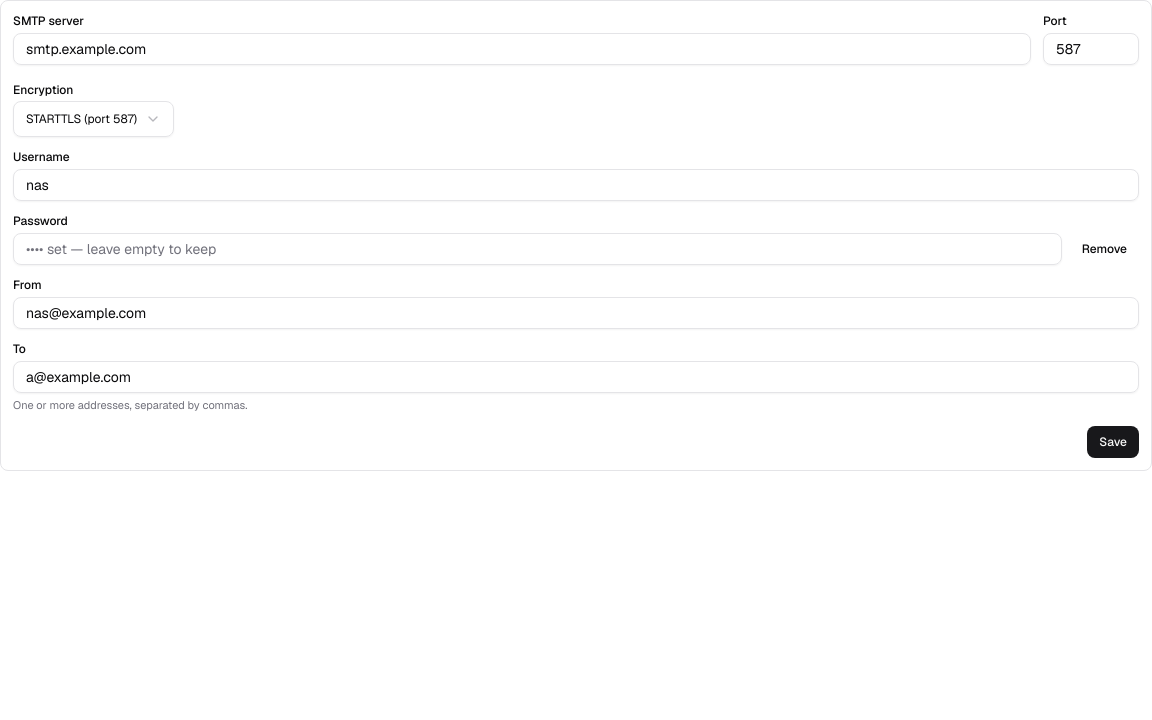
Test: email settings › follows the usual port of the chosen encryption and warns about none
Step 1. Click the dropdown named "Encryption" → [94, 119], box [13, 101, 174, 137]
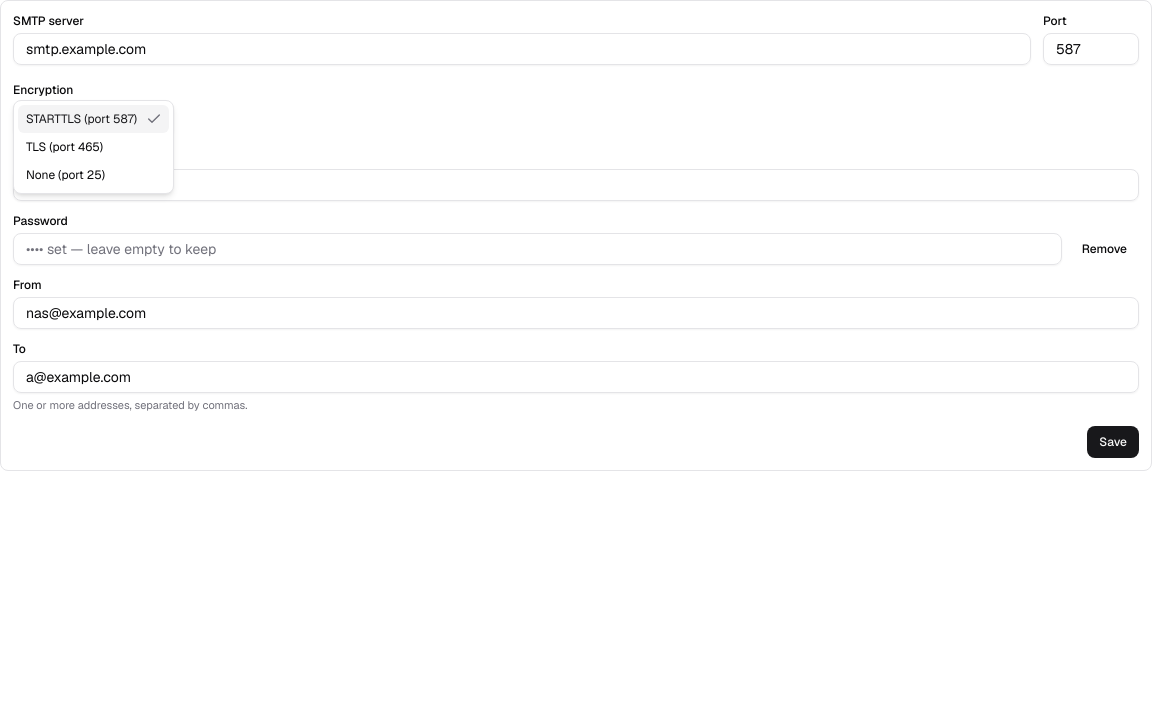
Step 2. Click the option "TLS (port 465)" → [64, 147], box [26, 139, 103, 155]
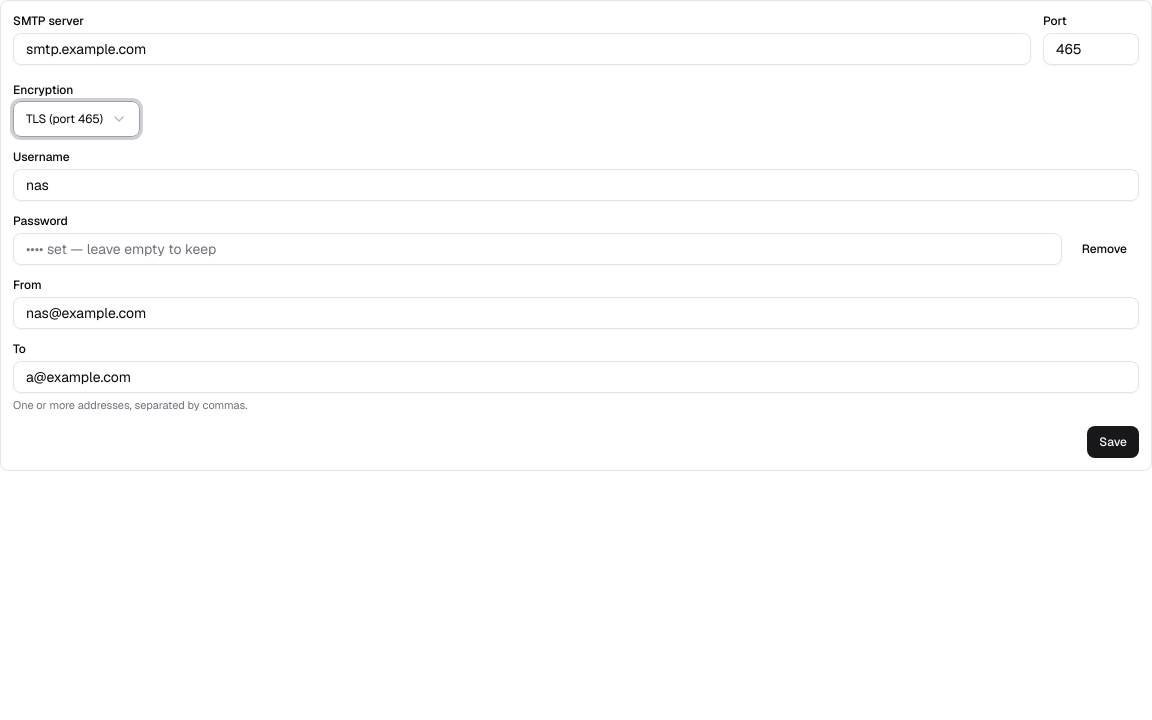
Expected: the field labelled "Port" holds "465", [1043, 33, 1139, 65]
Step 3. Click the dropdown named "Encryption" → [76, 119], box [13, 101, 140, 137]
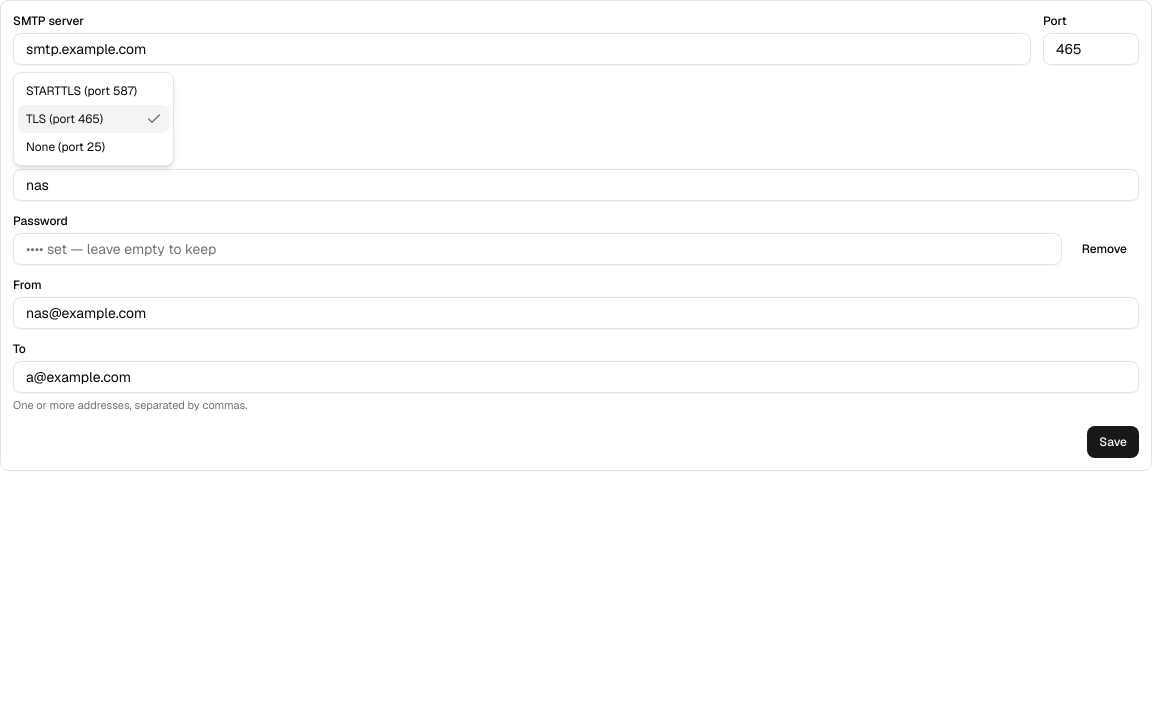
Step 4. Click the option "None (port 25)" → [65, 147], box [26, 139, 105, 155]
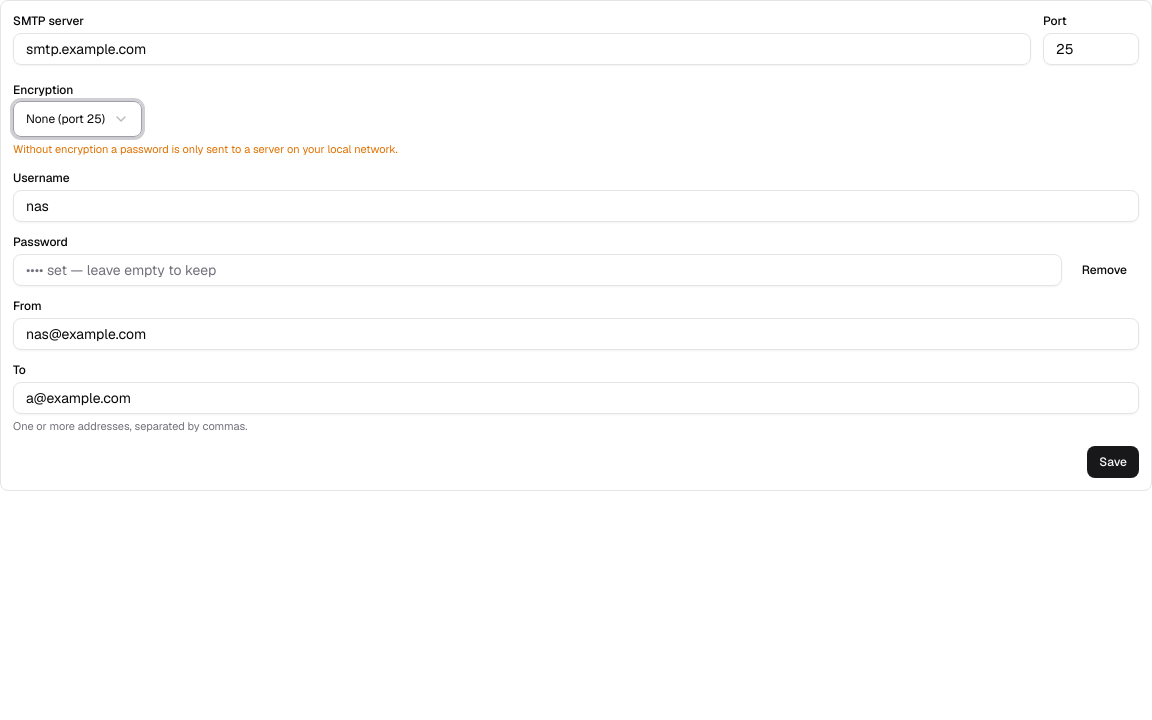
Expected: the field labelled "Port" holds "25", [1043, 33, 1139, 65]
Expected: the text "Without encryption" is shown, [13, 142, 398, 156]
